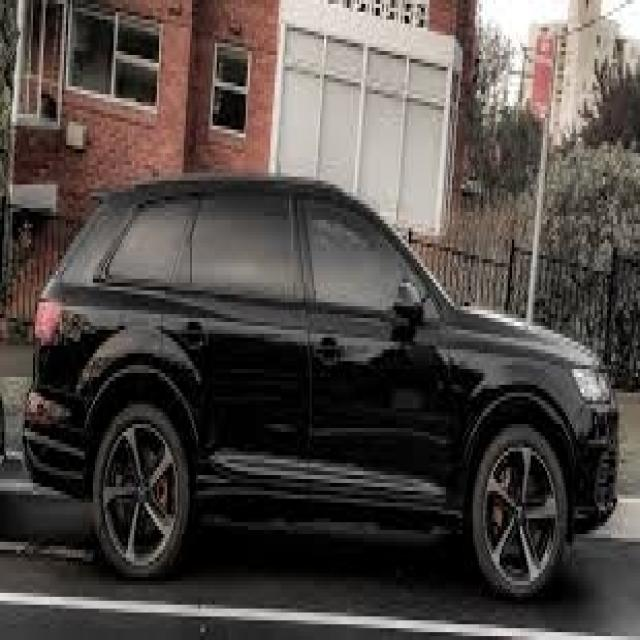black: (18, 149, 640, 640)
